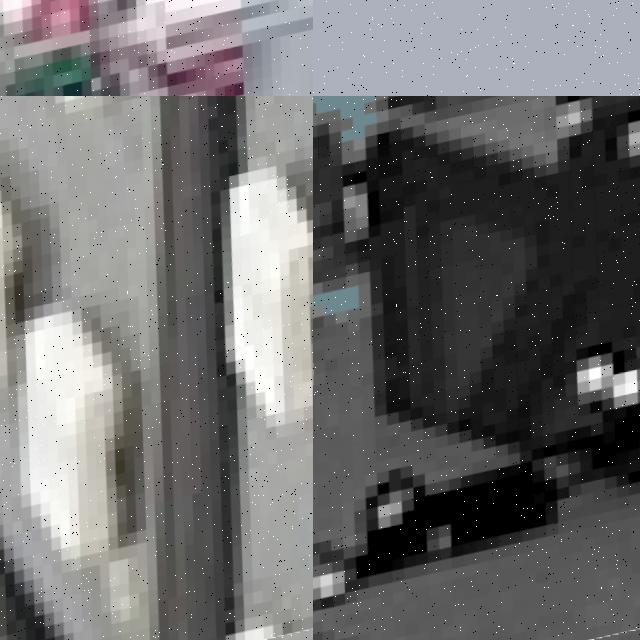0: (0, 0, 313, 96)
drone: (313, 96, 640, 640), (0, 96, 313, 640)
